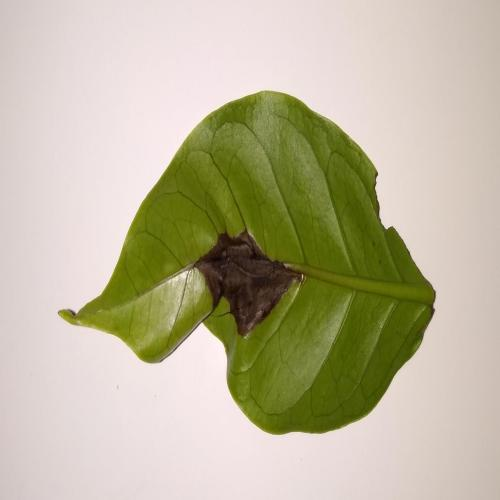miner: (185, 228, 306, 337)
